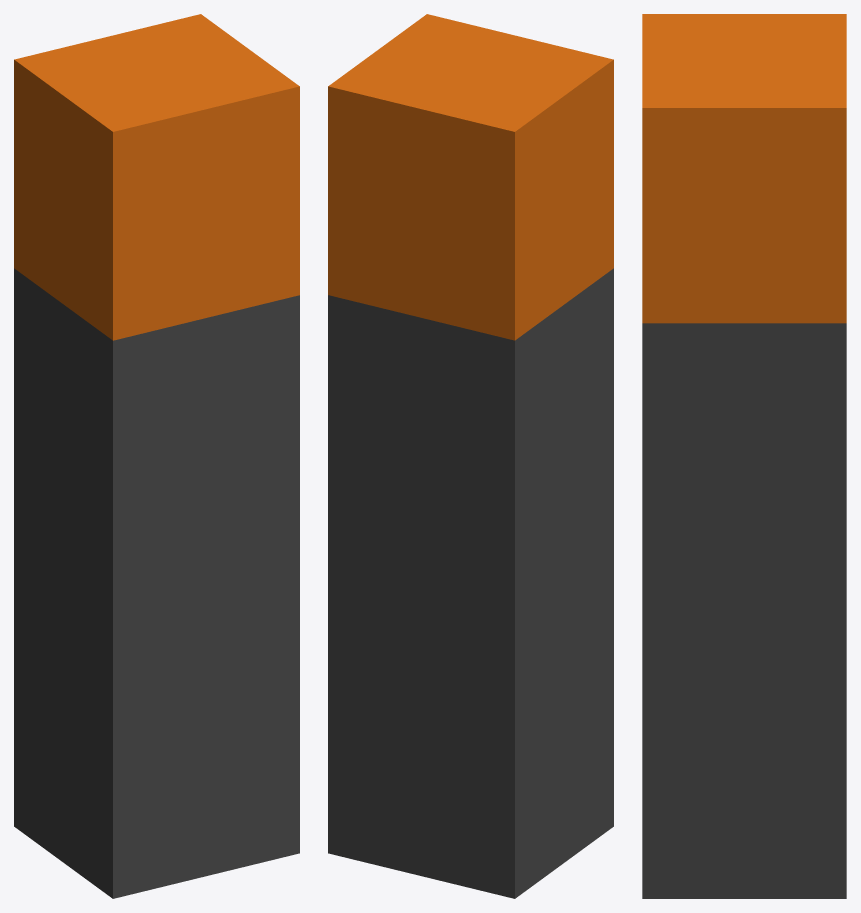
Rendered from Torch.fbx.
3 renders of one model, left to right at view 1: azimuth 30°, elevation 25°; view 2: azimuth 150°, elevation 25°; view 3: azimuth 270°, elevation 25°, orthographic. The views are drawn at different scales.
Parts seen in each view (by area): view 1: Cube, Cube.002; view 2: Cube, Cube.002; view 3: Cube, Cube.002.
Boxes of the visible parts, x1=… form: Cube: x1=14, y1=268, x2=299, y2=898; Cube.002: x1=14, y1=14, x2=299, y2=340; Cube: x1=328, y1=268, x2=613, y2=898; Cube.002: x1=328, y1=14, x2=613, y2=340; Cube: x1=642, y1=323, x2=846, y2=898; Cube.002: x1=642, y1=14, x2=846, y2=323.
Size of the model in its own units: 37.84 by 148 by 34.7.
